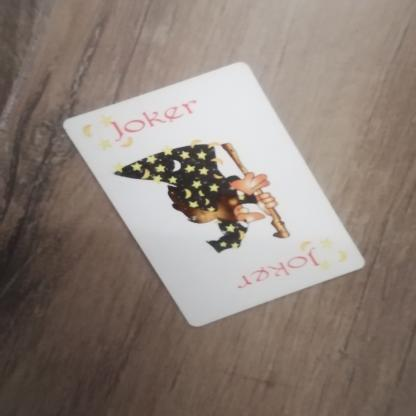BLACK JOKER: (209, 236, 359, 298), (80, 92, 199, 156)
